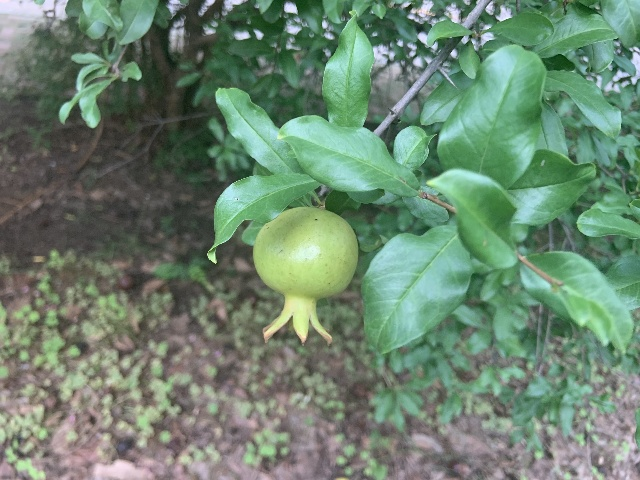mid-growth: (252, 206, 359, 346)
